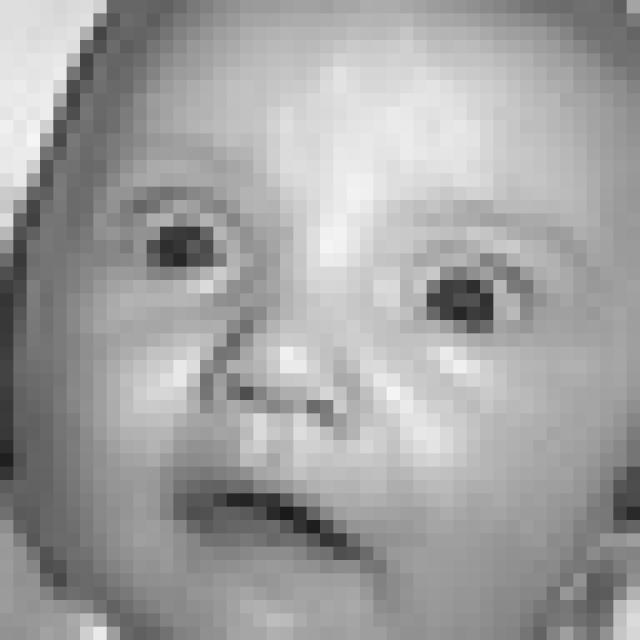fear: (69, 128, 605, 590)
